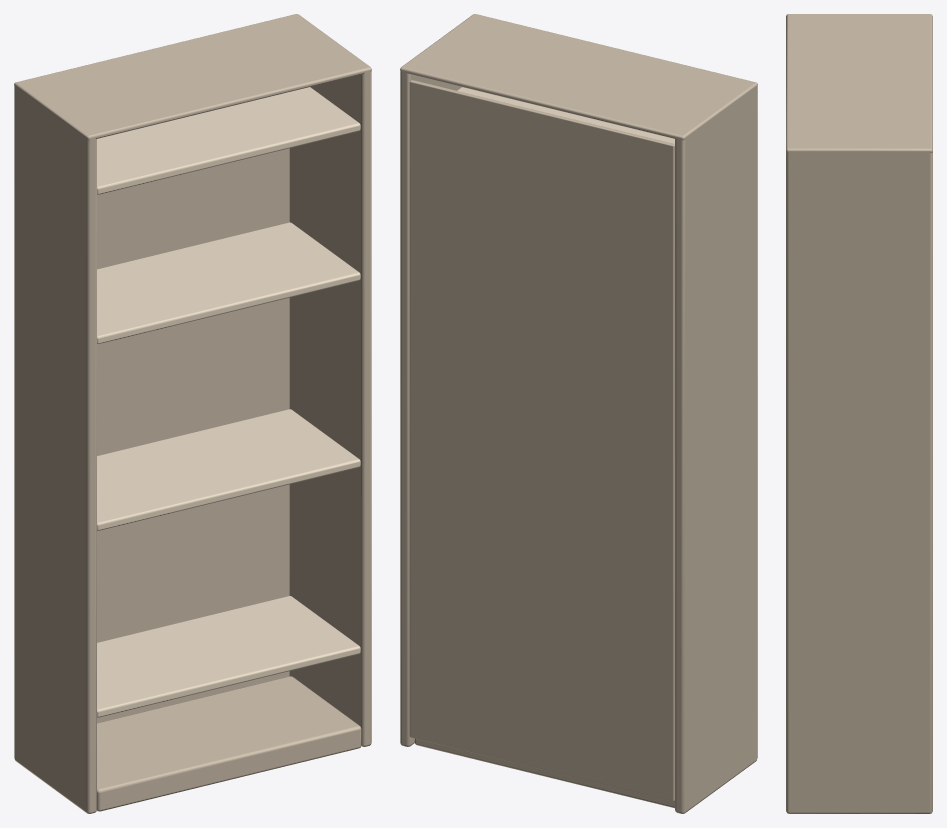
The model's file is bookshelf.glb.
The picture shows the model from 3 angles, left to right: view 1: azimuth 30°, elevation 25°; view 2: azimuth 150°, elevation 25°; view 3: azimuth 270°, elevation 25°; orthographic projection.
Visible parts, largest first — view 1: bookshelf; view 2: bookshelf; view 3: bookshelf.
Boxes of the visible parts, <box> form: bookshelf: <box>14,14,371,813</box>; bookshelf: <box>400,14,757,813</box>; bookshelf: <box>786,14,932,813</box>.
Bounding box in the file's own units: 0.79 × 1.8 × 0.36.
